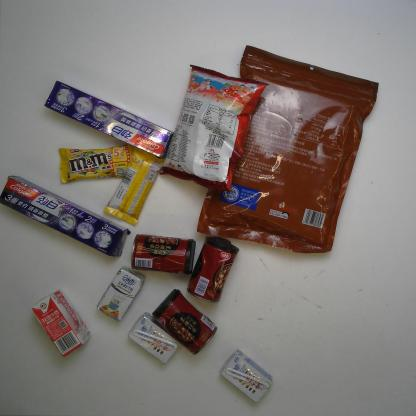Canned Food: (153, 288, 217, 355), (187, 236, 239, 304), (130, 232, 198, 276)
Chocolate: (104, 140, 164, 226), (56, 145, 133, 182)
Dried Food: (195, 43, 380, 254)
Milk: (28, 287, 91, 357), (218, 349, 273, 401), (95, 266, 145, 323), (128, 312, 180, 364)
Personal Hygiene: (0, 170, 130, 258), (43, 80, 172, 159)
Puffed Food: (158, 63, 268, 196)
